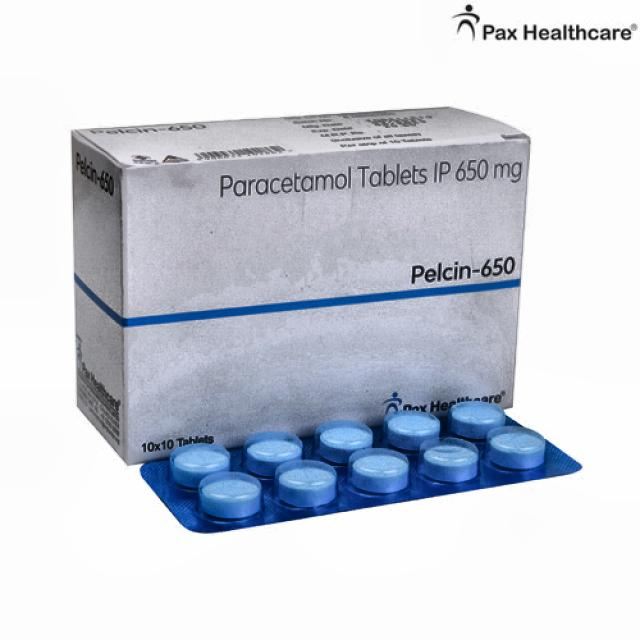Paracetamol: (202, 163, 534, 227)
